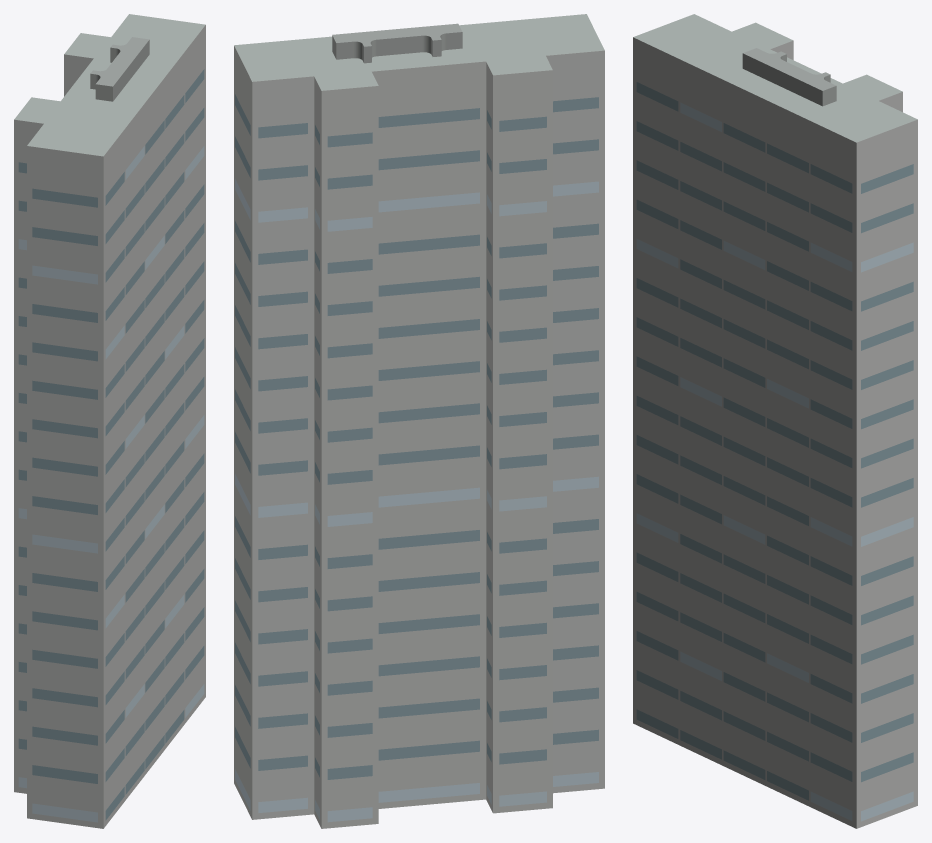
Rendered from fallback-gaepo-xi-presidence-420.glb.
The picture shows the model from 3 angles, left to right: view 1: azimuth 30°, elevation 25°; view 2: azimuth 150°, elevation 25°; view 3: azimuth 270°, elevation 25°; orthographic projection. The views are drawn at different scales.
Parts seen in each view (by area): view 1: fallback-gaepo-xi-presidence-420; view 2: fallback-gaepo-xi-presidence-420; view 3: fallback-gaepo-xi-presidence-420.
Boxes of the visible parts, x1=… form: fallback-gaepo-xi-presidence-420: x1=14, y1=14, x2=205, y2=828; fallback-gaepo-xi-presidence-420: x1=234, y1=14, x2=604, y2=828; fallback-gaepo-xi-presidence-420: x1=633, y1=14, x2=917, y2=828.
Bounding box in the file's own units: 42.94 × 109 × 40.18.
